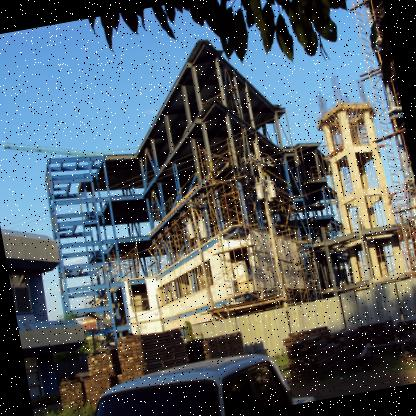Car: (81, 345, 297, 415)
